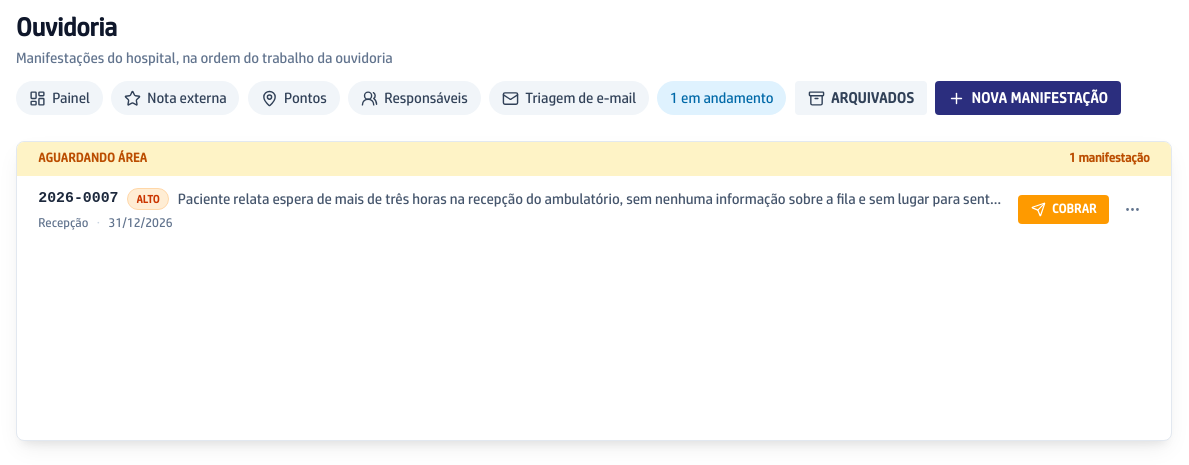
Test: a ação primária de cada estado, sempre visível (RN-74, D-06) › o menu fecha no Escape
Expected: the text "2026-0007" is shown, [38,188,119,210]
Click the button named "Mais ações": coordinates (1133, 210) [1116,193,1150,227]
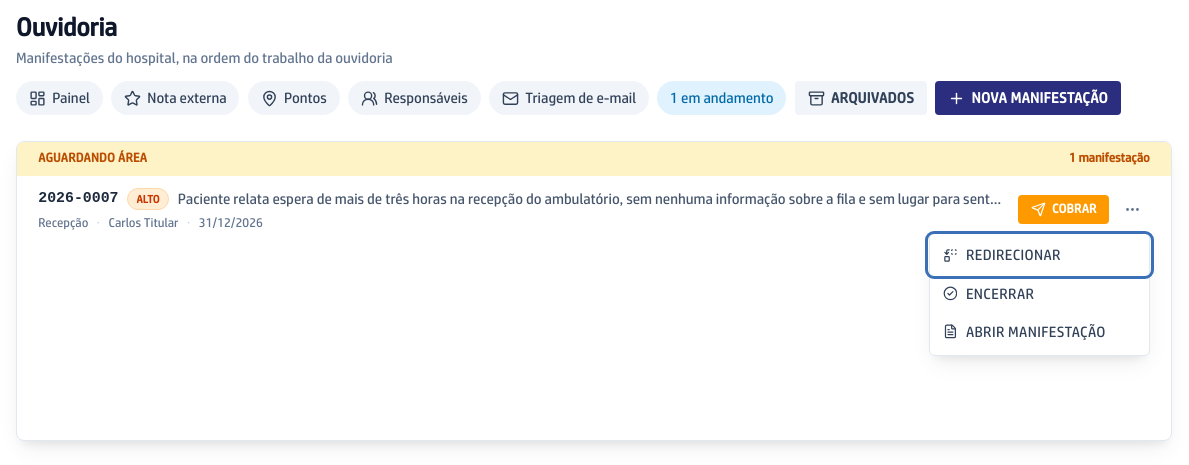
Press Escape
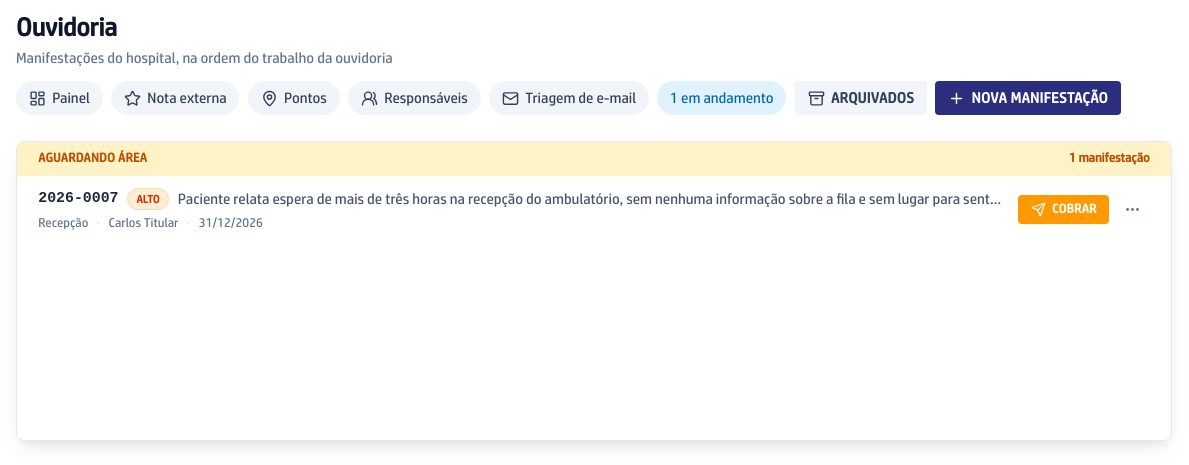
Result: the button "Encerrar" is gone
